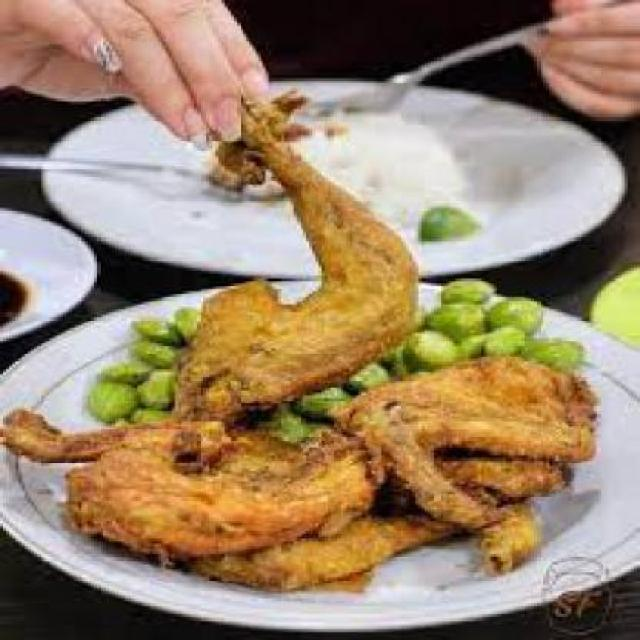Wet Waste: (172, 98, 422, 417), (0, 407, 375, 549), (346, 358, 597, 568)
